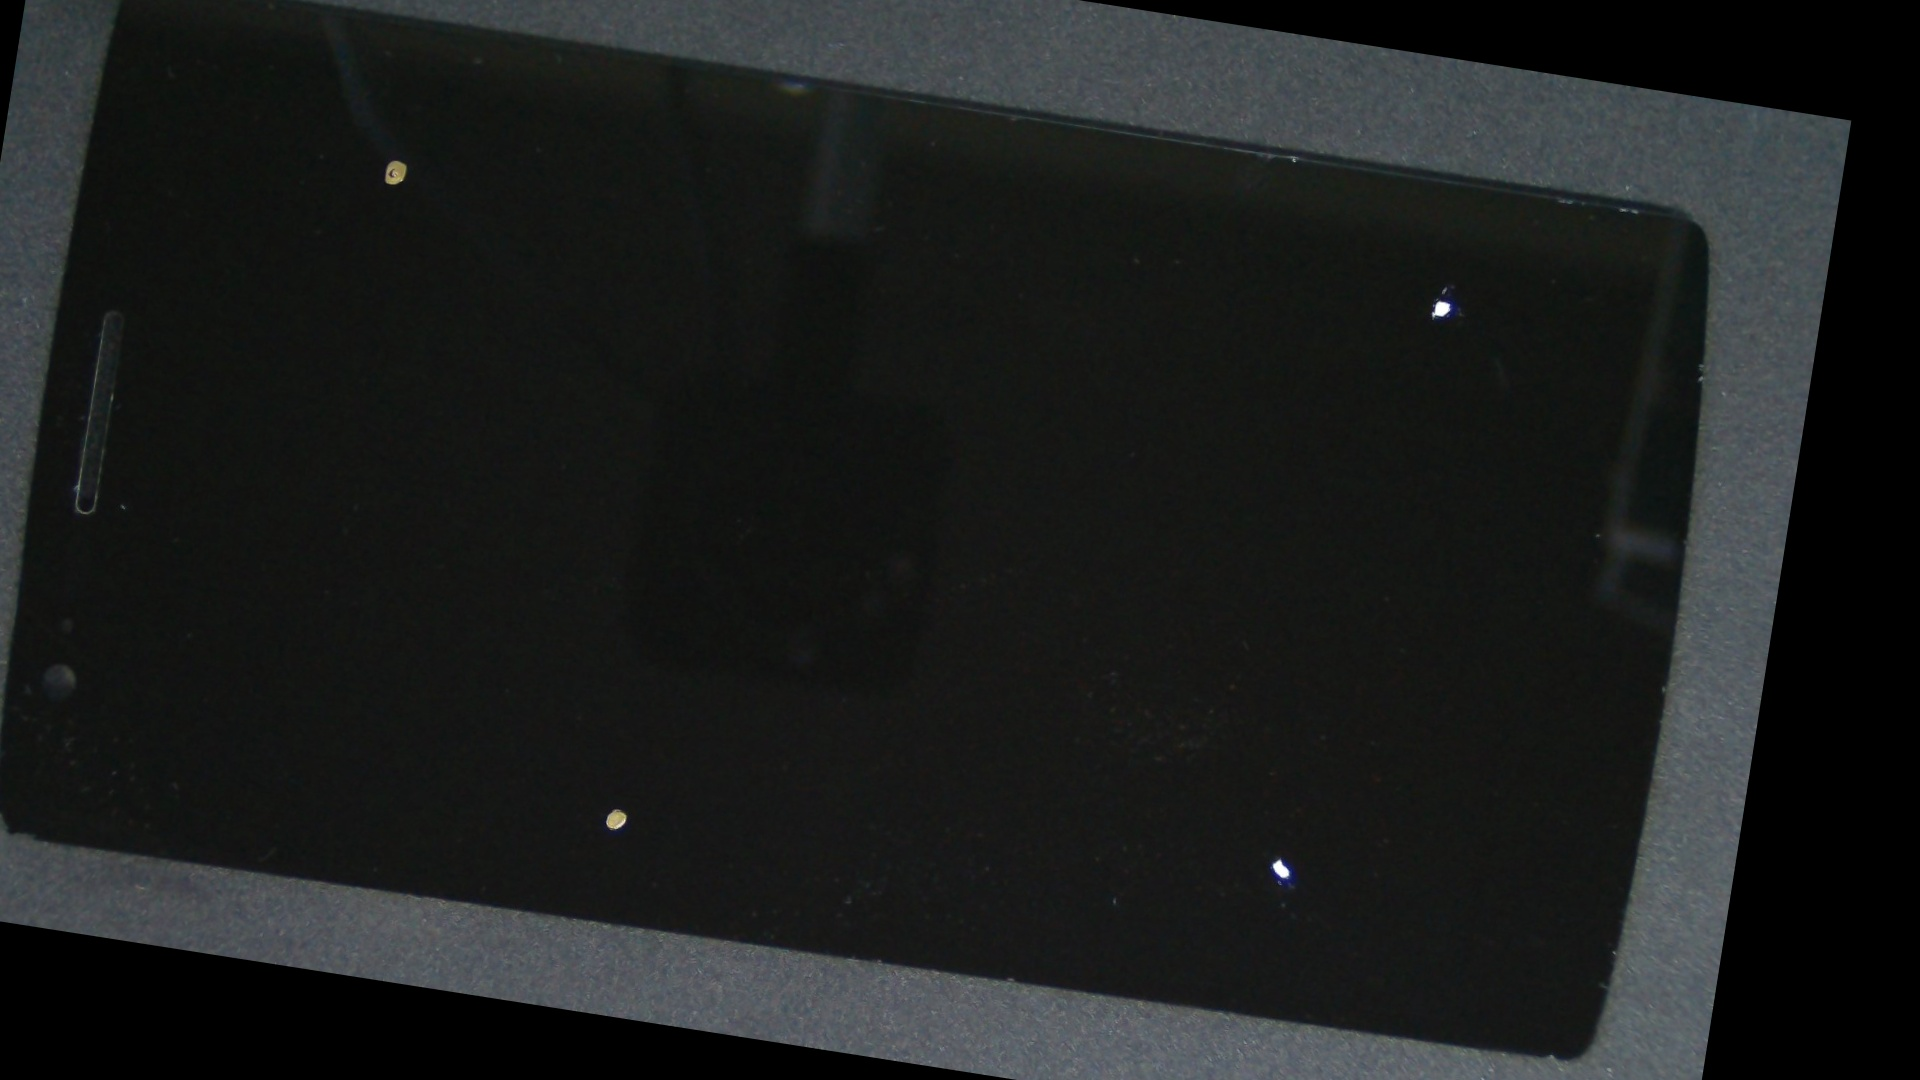oil: (564, 347, 1789, 1080), (563, 359, 1787, 1080), (236, 323, 1036, 1068), (708, 69, 1833, 475), (715, 62, 1834, 456), (181, 0, 601, 319)
